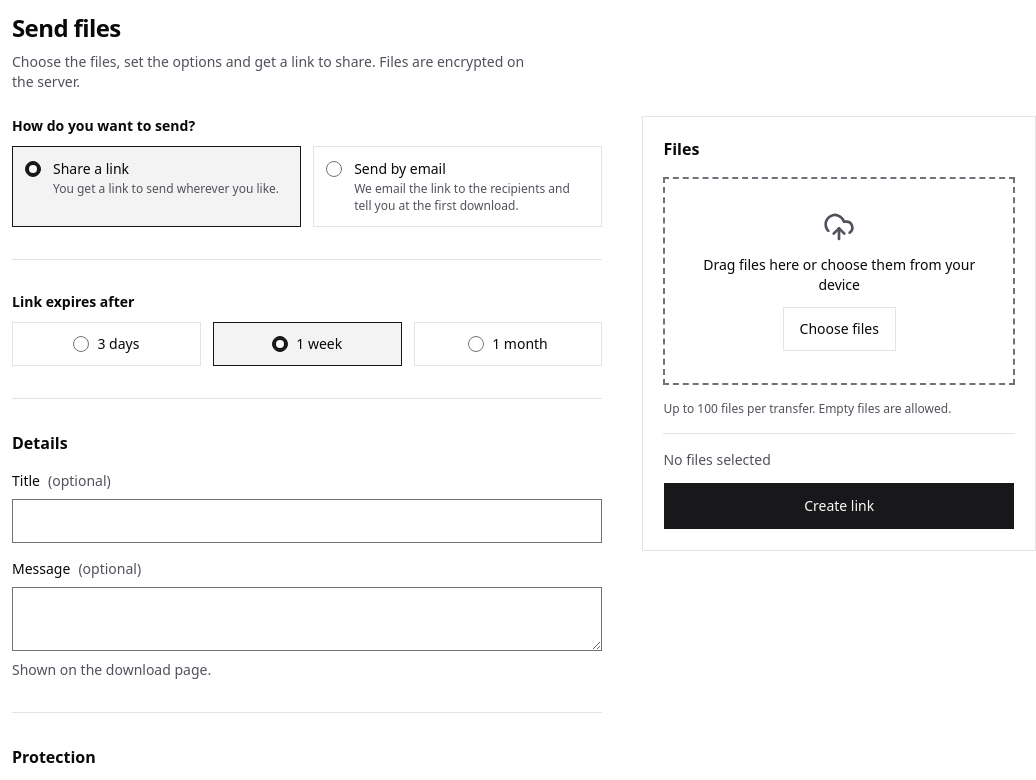
Test: NewTransferPage form › asks for a file before creating anything
Expected: the button "Choose files" is shown, 782,307 -> 896,351
Click the button "Create link" at coordinates (839, 506), box 663,482 -> 1015,530
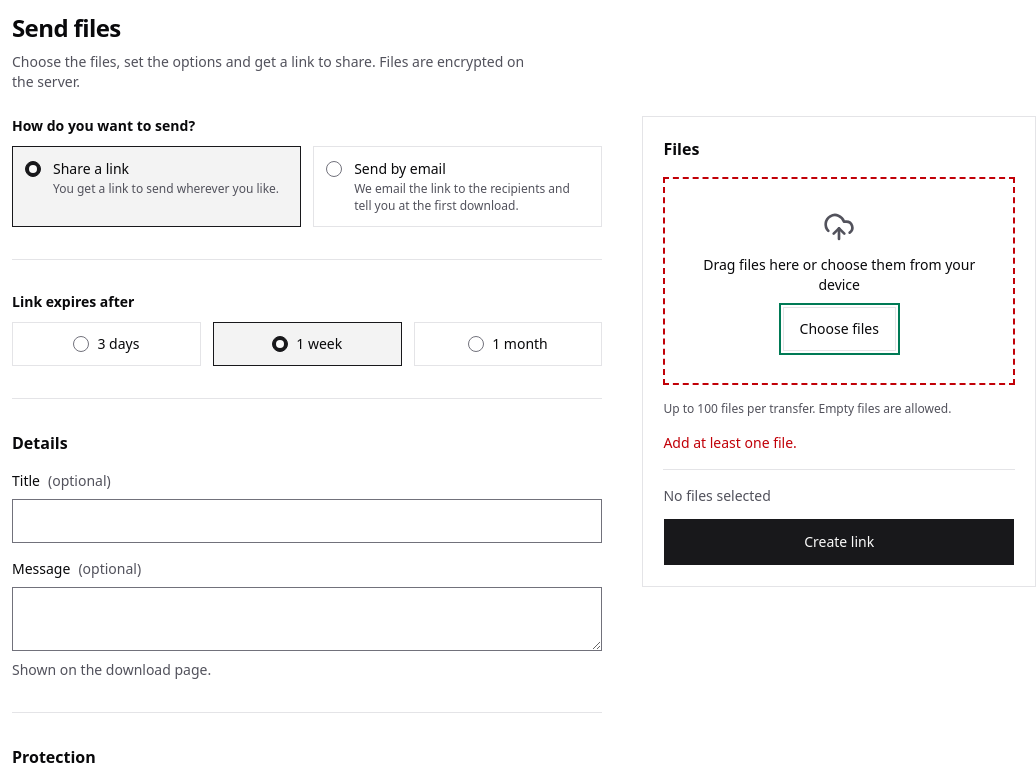
Expected: the text "Add at least one file." is shown, 663,433 -> 797,452
